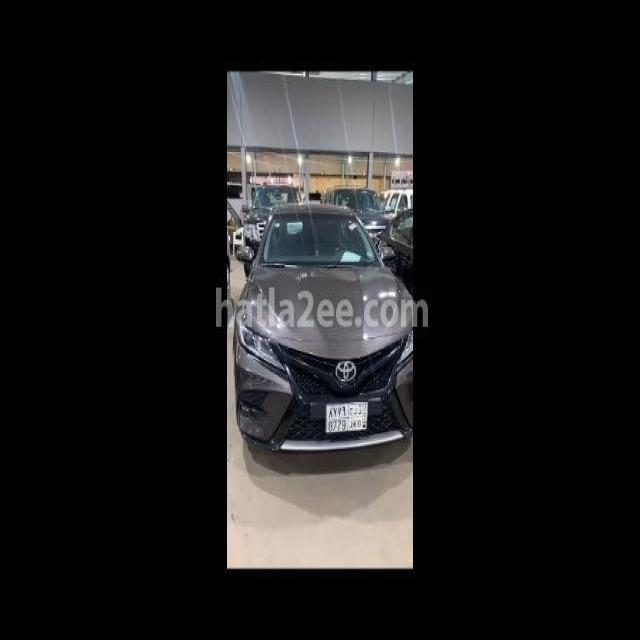license_plate: (318, 390, 372, 438)
